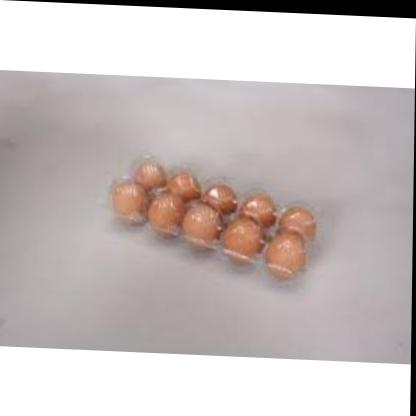egg: (219, 211, 268, 268), (260, 222, 308, 278), (179, 197, 225, 253), (106, 176, 154, 229), (143, 188, 188, 239), (236, 187, 282, 228), (274, 201, 321, 238), (198, 175, 241, 215), (128, 153, 168, 194), (163, 166, 206, 201)
